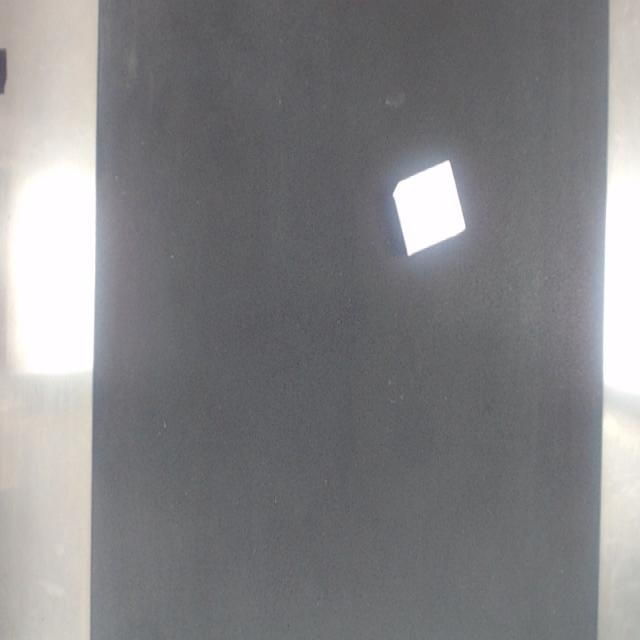Blanco: (393, 160, 465, 256)
